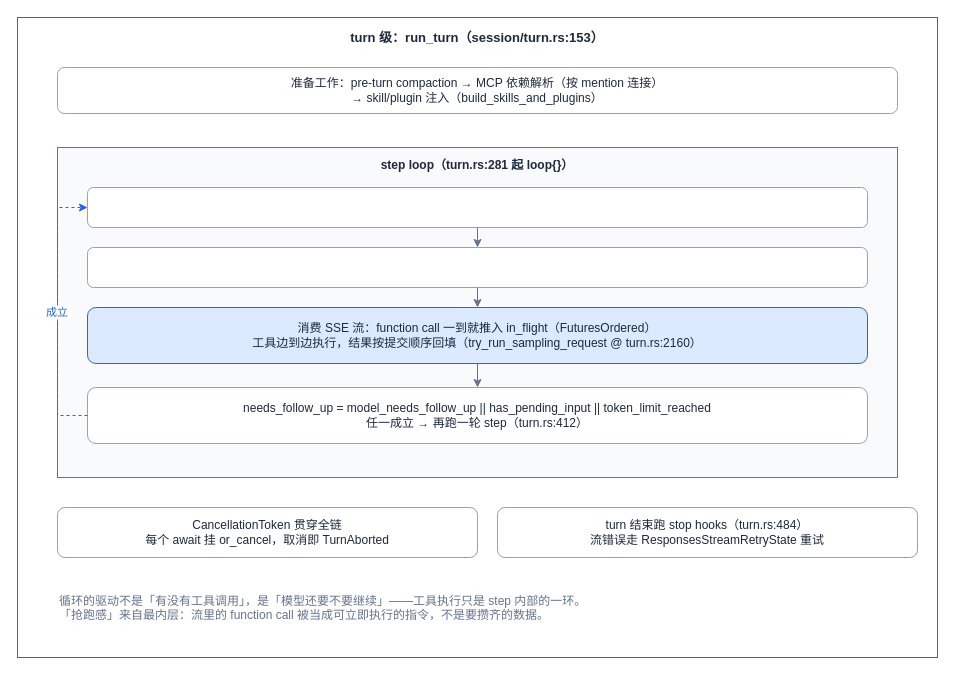
The diagram is 955 pixels wide and 675 high, and some of its shapes have lost their labels. Here are the shapes that lost their labels. From the top down, the centre of each, then its label:
At (477,207): "get_pending_input：取用户插话（steering）".
At (477,267): "构造 sampling request → run_sampling_request（turn.rs:1322）".
